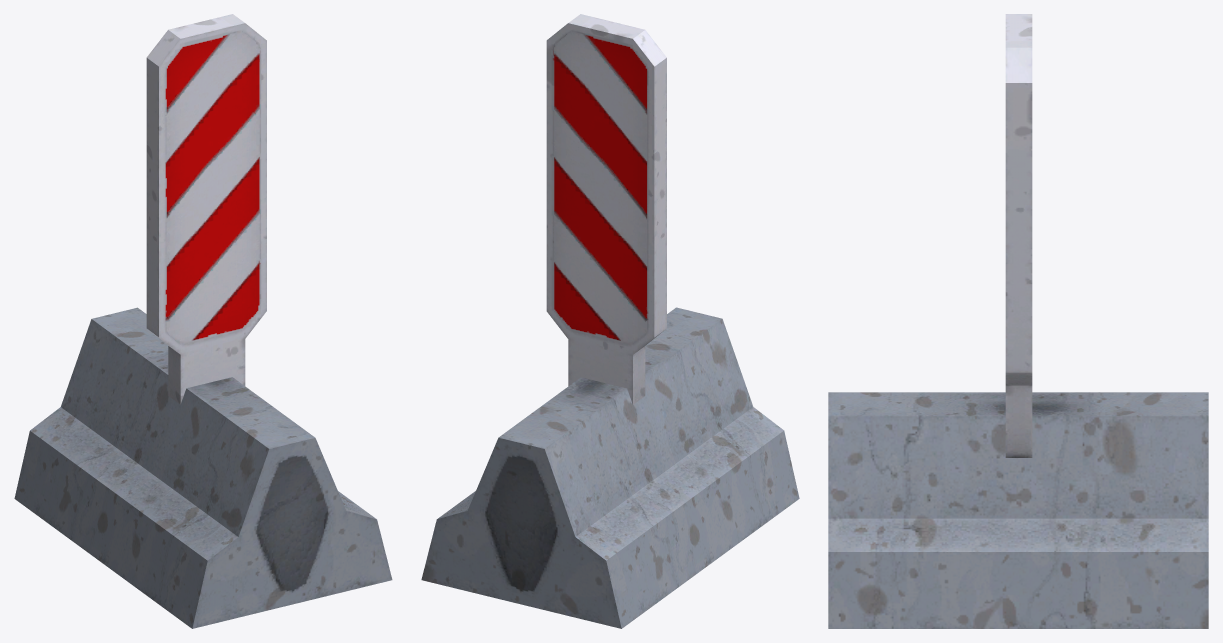
The model's file is Blockade2.gltf.
3 renders of one model, left to right at view 1: azimuth 30°, elevation 25°; view 2: azimuth 150°, elevation 25°; view 3: azimuth 270°, elevation 25°, orthographic. The views are drawn at different scales.
Visible parts, largest first — view 1: Blockade; view 2: Blockade; view 3: Blockade.
Part boxes in pixels (bbox=[...]): Blockade: bbox=[14, 14, 392, 628]; Blockade: bbox=[421, 14, 799, 628]; Blockade: bbox=[828, 14, 1208, 628].
Bounding box in the file's own units: 1.74 × 4.25 × 2.67.
1 material, 1 textured.
